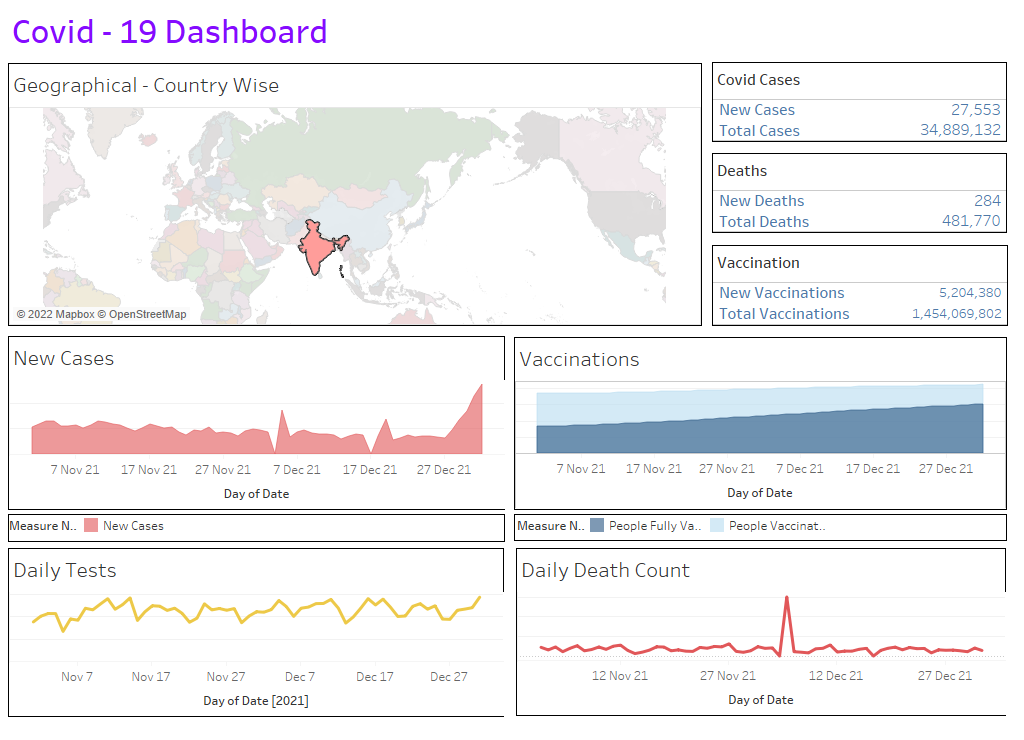

This screenshot's page, from the dashboard's own definition file:
{"tool":"tableau","page":{"name":"Dashboard 1","canvas":[1024,740],"ordinal":0},"visuals":[{"type":"title","box":[9,5,389,50]},{"type":"worksheet","title":"case","mark":"Text","box":[712,62,295,80]},{"type":"worksheet","title":"Sheet 1","mark":"Multipolygon","box":[8,63,694,263]},{"type":"worksheet","title":"Death","mark":"Automatic","box":[712,153,295,80]},{"type":"worksheet","title":"Vacc","mark":"Automatic","cols":["date"],"box":[712,245,296,81]},{"type":"worksheet","title":"Sheet 2","mark":"Area","rows":["new_cases"],"cols":["date"],"box":[8,336,497,174]},{"type":"worksheet","title":"Sheet 2 (2)","mark":"Area","rows":["people_vaccinated","people_fully_vaccinated"],"cols":["date"],"box":[514,337,493,173]},{"type":"legend","title":"Sheet 2","param":"[federated.0ubagwa0wfeiwj14mrv751bslwiy].[:Measure Names]","box":[8,514,497,28]},{"type":"legend","title":"Sheet 2 (2)","param":"[federated.0ubagwa0wfeiwj14mrv751bslwiy].[:Measure Names]","box":[514,514,493,27]},{"type":"worksheet","title":"Sheet 2 (3)","mark":"Line","rows":["new_tests"],"cols":["date"],"box":[8,548,496,169]},{"type":"worksheet","title":"Sheet 2 (4)","mark":"Line","rows":["new_deaths"],"cols":["date"],"box":[516,548,490,168]}]}

Visuals, with their boxes in screenshot pixels (x1, y1, x2, y2), scaled from the page's 1024x740 canvas onto the 1024x740 screenshot:
title: [9, 5, 398, 55]
"case" worksheet (Text marks): [712, 62, 1007, 142]
"Sheet 1" worksheet (Multipolygon marks): [8, 63, 702, 326]
"Death" worksheet: [712, 153, 1007, 233]
"Vacc" worksheet: [712, 245, 1008, 326]
"Sheet 2" worksheet (Area marks): [8, 336, 505, 510]
"Sheet 2 (2)" worksheet (Area marks): [514, 337, 1007, 510]
"Sheet 2" legend: [8, 514, 505, 542]
"Sheet 2 (2)" legend: [514, 514, 1007, 541]
"Sheet 2 (3)" worksheet (Line marks): [8, 548, 504, 717]
"Sheet 2 (4)" worksheet (Line marks): [516, 548, 1006, 716]
